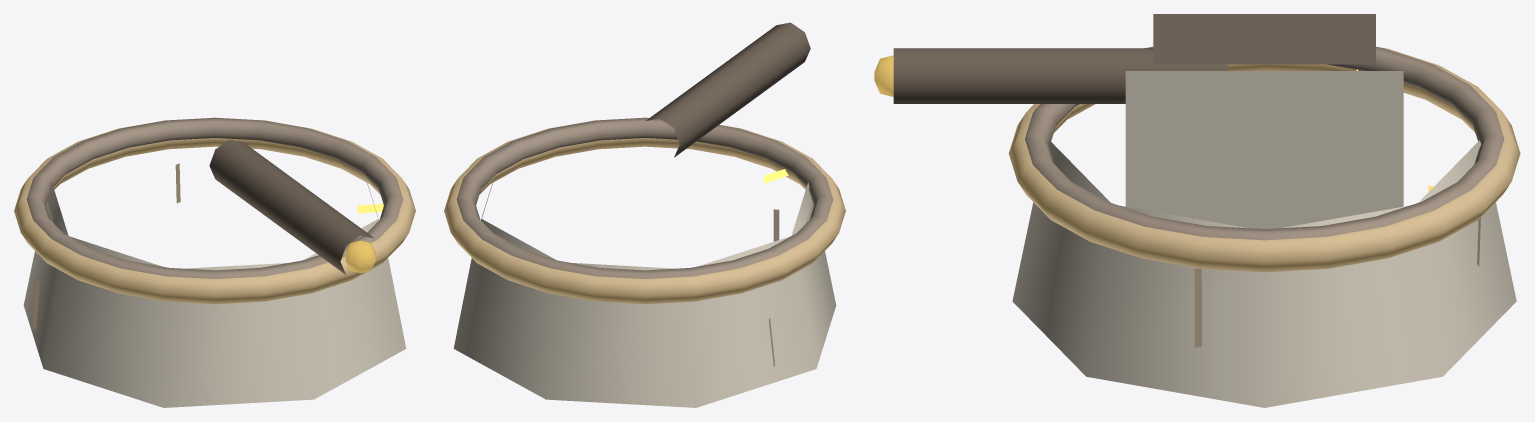
File: tower_gun_1.glb
3 views of the same model, side by side, from view 1: azimuth 30°, elevation 25°; view 2: azimuth 150°, elevation 25°; view 3: azimuth 270°, elevation 25° (orthographic). The views are drawn at different scales.
Visible parts, largest first — view 1: base, turret; view 2: base, turret; view 3: base, turret.
Boxes of the visible parts, left/top/right/bottom form: base: left=14, top=117, right=415, bottom=407; turret: left=209, top=140, right=375, bottom=274; base: left=444, top=117, right=845, bottom=407; turret: left=646, top=22, right=810, bottom=157; base: left=1008, top=46, right=1520, bottom=407; turret: left=874, top=14, right=1403, bottom=229.
Size of the model in its own units: 2.76 by 1.99 by 3.48.
